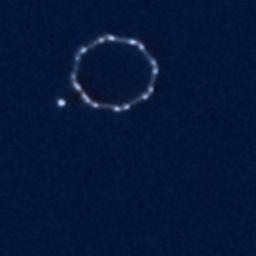octagon: (66, 30, 162, 115)
